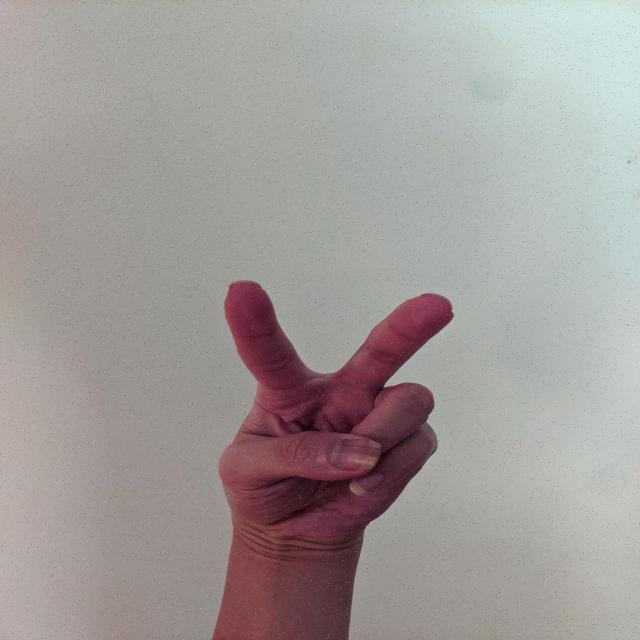V: (209, 274, 463, 540)
